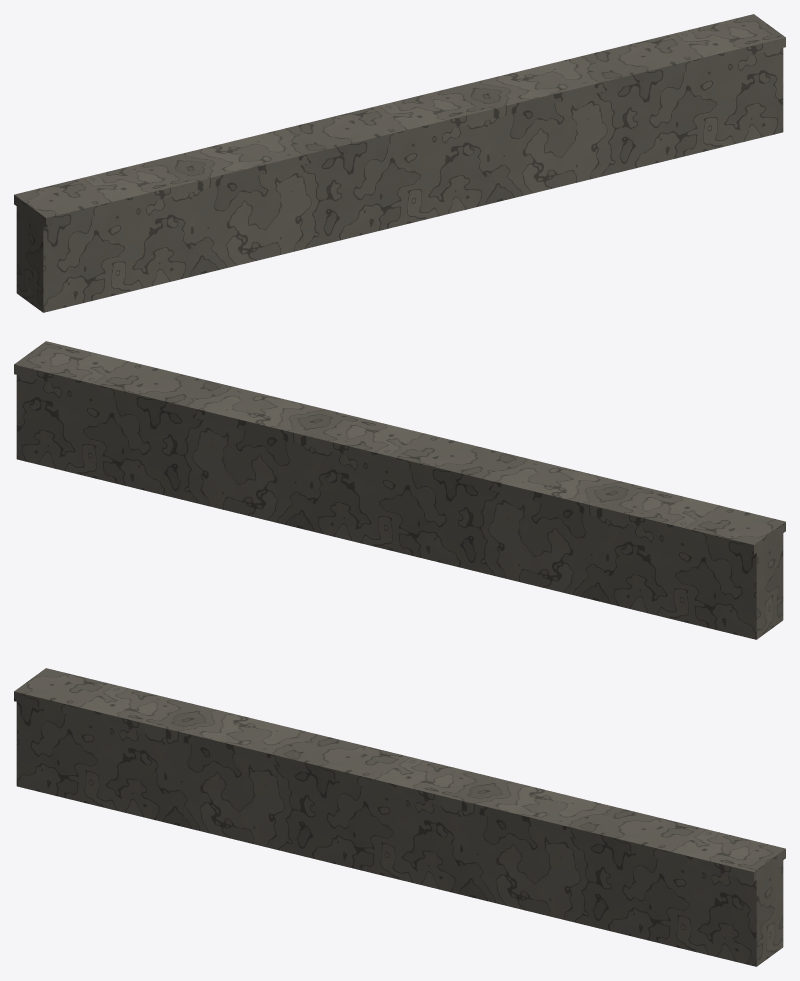
File: foundation_plinth_straight_4m.glb
The picture shows the model from 3 angles, top to bottom: view 1: azimuth 30°, elevation 25°; view 2: azimuth 150°, elevation 25°; view 3: azimuth 330°, elevation 25°; orthographic projection.
Visible parts, largest first — view 1: foundation_plinth_straight_4m; view 2: foundation_plinth_straight_4m; view 3: foundation_plinth_straight_4m.
Part boxes in pixels (x1,y1,x2,y2): foundation_plinth_straight_4m: [14, 14, 785, 312]; foundation_plinth_straight_4m: [14, 341, 785, 639]; foundation_plinth_straight_4m: [14, 668, 785, 966].
Size of the model in its own units: 4 by 0.5 by 0.3.
1 material, 1 textured.
